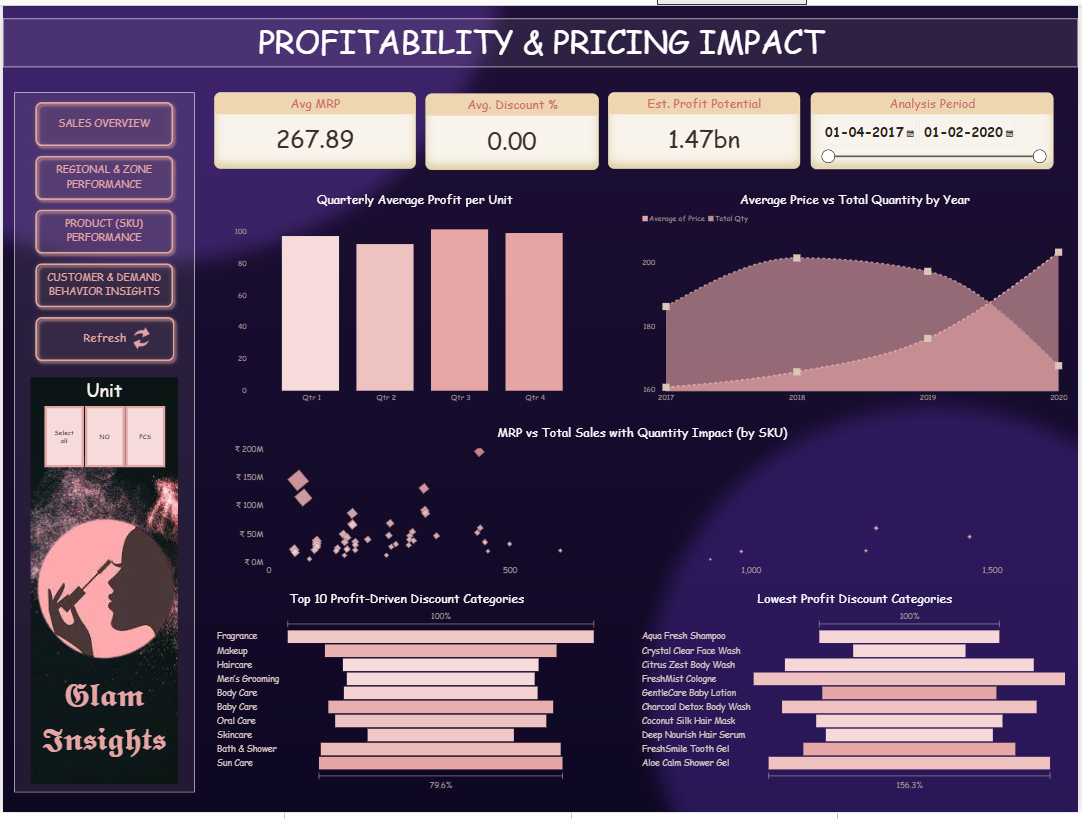

The dashboard page shown, as its layout file describes it:
{"tool":"powerbi","page":{"name":"PROFITABILITY & PRICING IMPACT","canvas":[2000,1500],"ordinal":1},"visuals":[{"type":"card","title":"Avg MRP","fields":{"Values":["Page 2 — PROFITABILITY & PRICING IMPACT.Avg MRP"]},"box":[392.5,160,375,142.5],"z":0},{"type":"card","title":"Est. Profit Potential","fields":{"Values":["Page 2 — PROFITABILITY & PRICING IMPACT.Profit Proxy"]},"box":[1125,160,357.5,142.5],"z":1000},{"type":"card","title":"Avg. Discount %","fields":{"Values":["Page 2 — PROFITABILITY & PRICING IMPACT.Avg Discount %"]},"box":[785,162.5,322.5,142.5],"z":2000},{"type":"scatterChart","title":"MRP vs Total Sales with Quantity Impact (by SKU)","fields":{"X":["Cosmetic_products_sales (1).MRP"],"Size":["Page 1 — SALES OVERVIEW (KPI & visuals).Total Qty"],"Y":["Page 1 — SALES OVERVIEW (KPI & visuals).Total Sales"],"Category":["Cosmetic_products_sales (1).ParentSKU"]},"box":[426.2,776.2,1528.6,292.9],"z":3000},{"type":"clusteredColumnChart","title":"Quarterly Average Profit per Unit","fields":{"Category":["Cosmetic_products_sales (1).Date.Variation.Date Hierarchy.Quarter"],"Y":["Page 2 — PROFITABILITY & PRICING IMPACT.Avg Profit Per Unit"]},"box":[426.2,345.2,681,404.8],"z":4000},{"type":"lineChart","title":"Average Price vs Total Quantity by Year","fields":{"Y":["Avg(Cosmetic_products_sales (1).Price)"],"Category":["Cosmetic_products_sales (1).Year"],"Y2":["Page 1 — SALES OVERVIEW (KPI & visuals).Total Qty"]},"box":[1183.3,345.2,802.4,404.8],"z":5000},{"type":"funnel","title":"Top 10 Profit-Driven Discount Categories","fields":{"Category":["Cosmetic_products_sales (1).RandomCategory"],"Y":["Page 2 — PROFITABILITY & PRICING IMPACT.Discount %"]},"box":[393,1086,716.3,379.1],"z":6000},{"type":"shape","box":[20.5,161.5,335.9,1302.6],"z":7000},{"type":"actionButton","box":[51.3,169.2,274.4,100],"z":8000},{"type":"actionButton","box":[51.3,369.2,274.4,100],"z":9000},{"type":"actionButton","box":[51.3,269.2,274.4,100],"z":10000},{"type":"actionButton","box":[51.3,469.2,274.4,100],"z":11000},{"type":"image","box":[51.3,689.7,274.4,756.4],"z":12000},{"type":"image","box":[51.3,892.3,274.4,361.5],"z":13000},{"type":"slicer","title":"Unit","fields":{"Values":["Cosmetic_products_sales (1).Unit"]},"box":[51.3,689.7,274.4,174.4],"z":14000},{"type":"textbox","box":[51.3,1235.9,274.4,192.3],"z":15000},{"type":"textbox","title":"PROFITABILITY & PRICING IMPACT","box":[0,22.5,2000,90],"z":16000},{"type":"funnel","title":"Lowest Profit Discount Categories","fields":{"Category":["Cosmetic_products_sales (1).RandomProductName"],"Y":["Page 2 — PROFITABILITY & PRICING IMPACT.Discount %"]},"box":[1183.7,1086,802.3,379.1],"z":17000},{"type":"actionButton","box":[51.3,569.2,276.9,100],"z":18000},{"type":"image","box":[215.4,597.4,82.1,41],"z":19000},{"type":"slicer","title":"Analysis Period","fields":{"Values":["Cosmetic_products_sales (1).Date"]},"box":[1502.4,159.5,452.4,142.9],"z":20000}]}

Visuals, with their boxes in screenshot pixels (x1, y1, x2, y2), scaled from the page's 2000x1500 canvas onto the 1082x819 screenshot:
"Avg MRP" card: select_region(212, 87, 415, 165)
"Est. Profit Potential" card: select_region(609, 87, 802, 165)
"Avg. Discount %" card: select_region(425, 89, 599, 167)
"MRP vs Total Sales with Quantity Impact (by SKU)" scatterChart: select_region(231, 424, 1058, 584)
"Quarterly Average Profit per Unit" clusteredColumnChart: select_region(231, 188, 599, 410)
"Average Price vs Total Quantity by Year" lineChart: select_region(640, 188, 1074, 410)
"Top 10 Profit-Driven Discount Categories" funnel: select_region(213, 593, 600, 800)
shape: select_region(11, 88, 193, 799)
actionButton: select_region(28, 92, 176, 147)
actionButton: select_region(28, 202, 176, 256)
actionButton: select_region(28, 147, 176, 202)
actionButton: select_region(28, 256, 176, 311)
image: select_region(28, 377, 176, 790)
image: select_region(28, 487, 176, 685)
"Unit" slicer: select_region(28, 377, 176, 472)
textbox: select_region(28, 675, 176, 780)
"PROFITABILITY & PRICING IMPACT" textbox: select_region(0, 12, 1081, 61)
"Lowest Profit Discount Categories" funnel: select_region(640, 593, 1074, 800)
actionButton: select_region(28, 311, 178, 365)
image: select_region(117, 326, 161, 349)
"Analysis Period" slicer: select_region(813, 87, 1058, 165)
